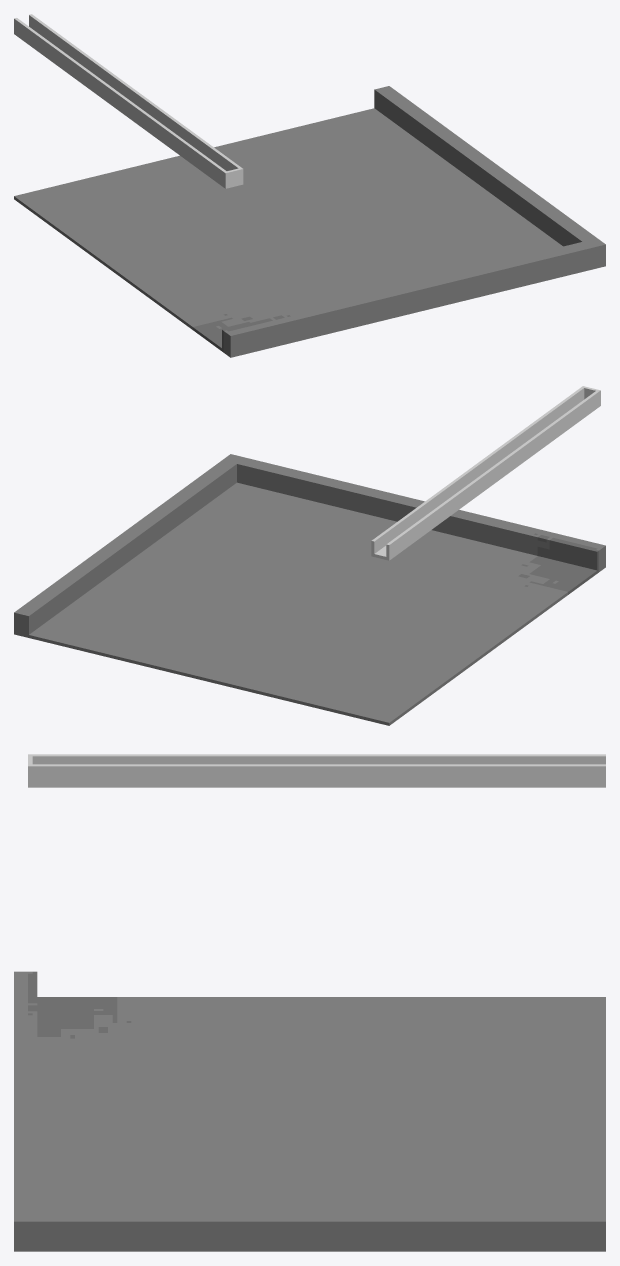
The model's file is 4x2 roof (1)-1.obj.
3 renders of one model, top to bottom at view 1: azimuth 30°, elevation 25°; view 2: azimuth 150°, elevation 25°; view 3: azimuth 270°, elevation 25°, orthographic. The views are drawn at different scales.
Parts seen in each view (by area): view 1: 4x2 roof (1)-1; view 2: 4x2 roof (1)-1; view 3: 4x2 roof (1)-1.
Part boxes in pixels (box(x1,y1,x2,y2)): 4x2 roof (1)-1: box(14, 14, 605, 357); 4x2 roof (1)-1: box(14, 386, 605, 725); 4x2 roof (1)-1: box(14, 754, 605, 1251).
Size of the model in its own units: 126 by 58 by 126.
Materials: 1 (1 with a texture image).
